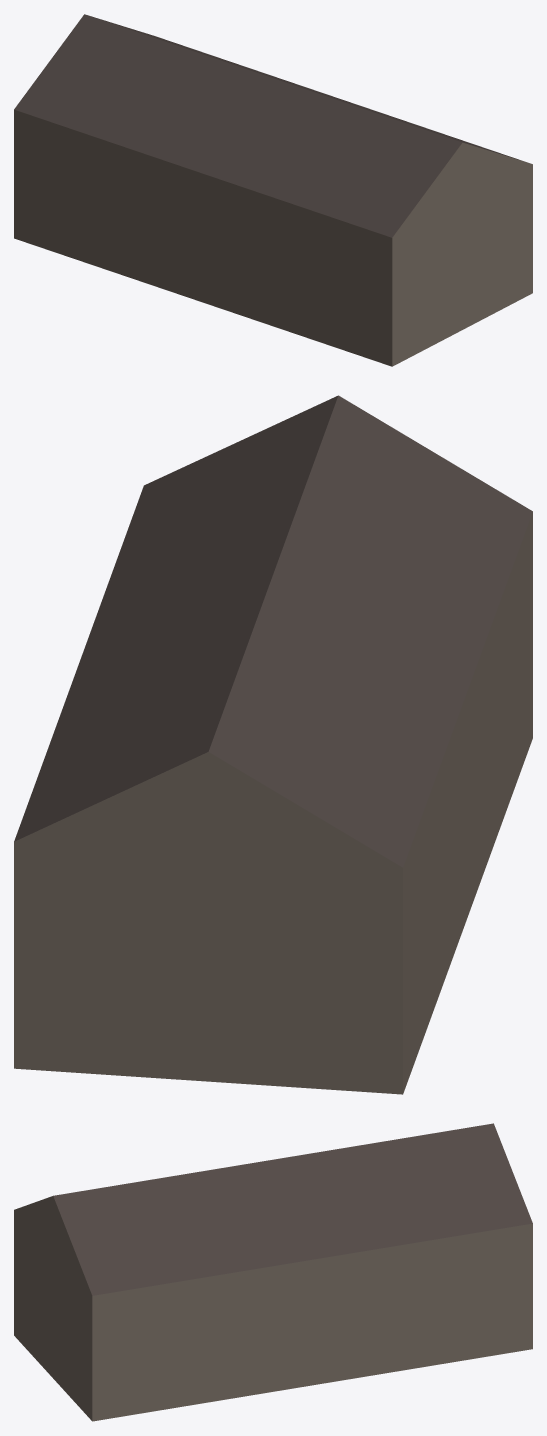
The picture shows the model from 3 angles, top to bottom: view 1: azimuth 30°, elevation 25°; view 2: azimuth 150°, elevation 25°; view 3: azimuth 270°, elevation 25°; orthographic projection. The views are drawn at different scales.
Visible parts, largest first — view 1: HP-w859424172; view 2: HP-w859424172; view 3: HP-w859424172.
Boxes of the visible parts, bbox=[...] form: HP-w859424172: bbox=[14, 14, 532, 366]; HP-w859424172: bbox=[14, 395, 532, 1094]; HP-w859424172: bbox=[14, 1123, 532, 1421].
Size of the model in its own units: 16.23 by 8.73 by 22.46.
